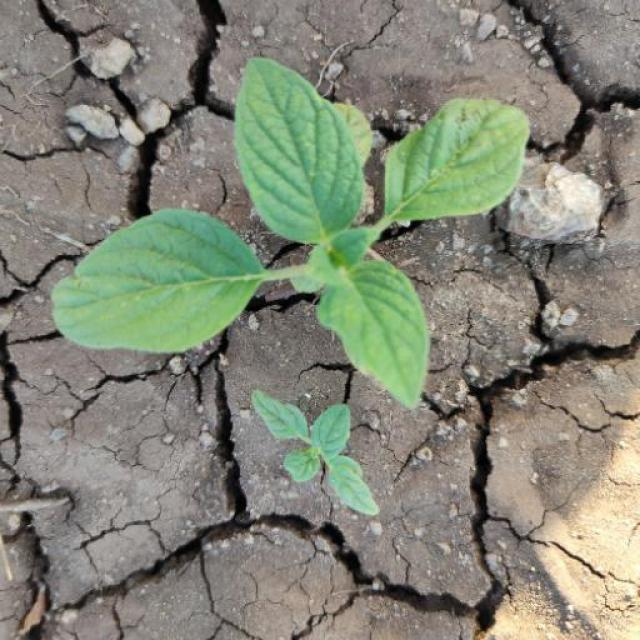crop: (40, 38, 556, 412), (218, 373, 384, 532)
